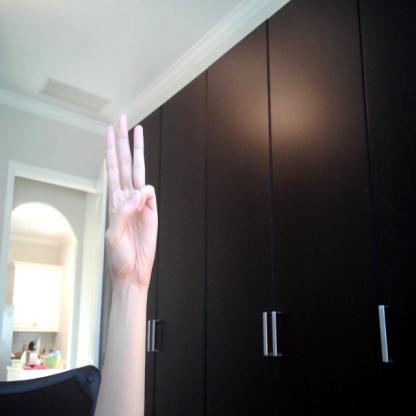six: (102, 110, 161, 289)
